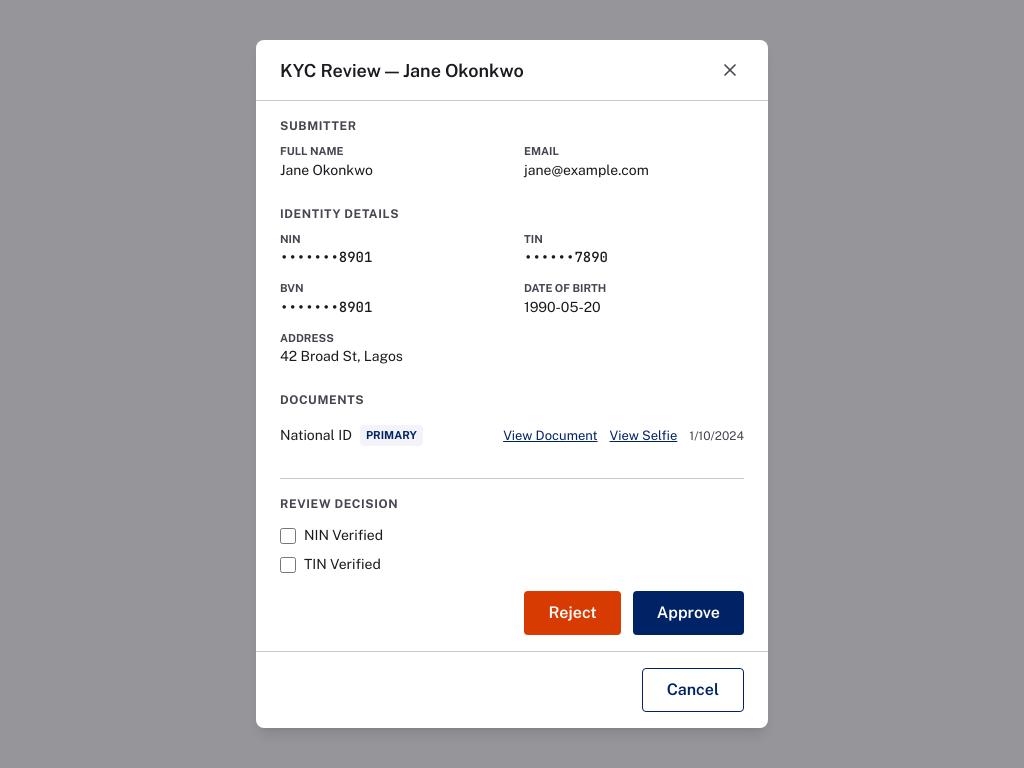
Test: AC-16: 409 backend response → frontend shows "already reviewed" error message › shows generic error message for non-409 review failures
Click the button "Approve" at (688, 613), box [633, 591, 744, 635]
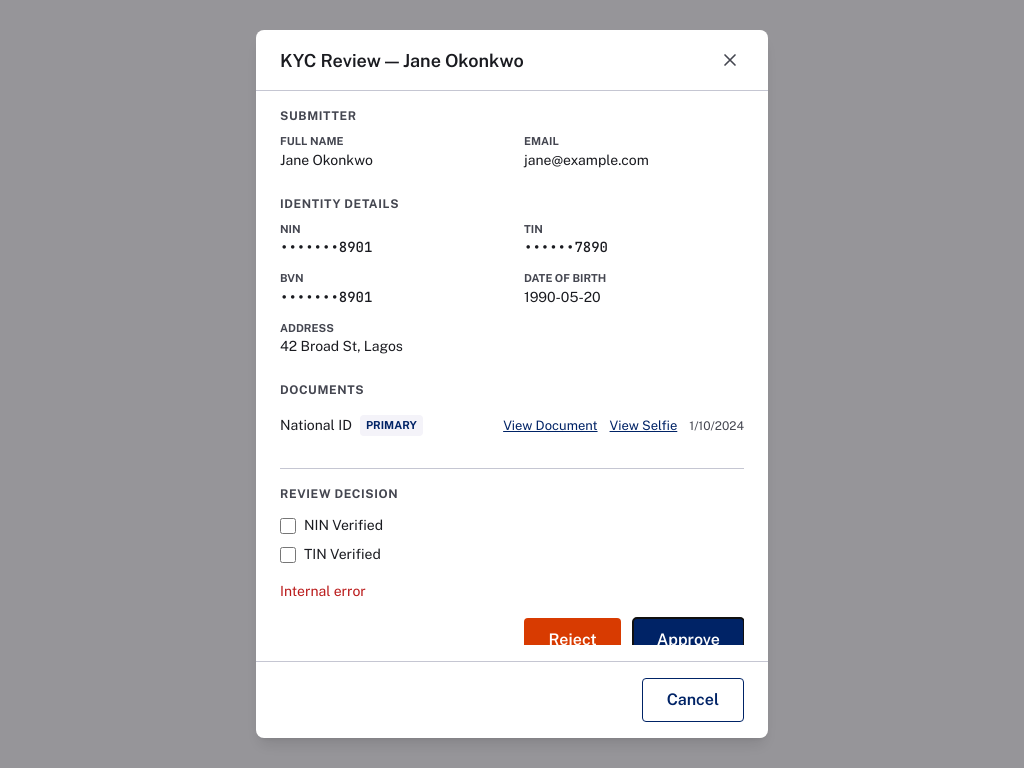
Expected: the text "Internal error" is shown, [280, 583, 366, 599]
